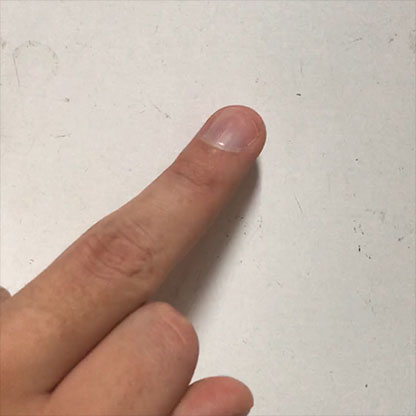fingertip: (198, 94, 279, 174)
